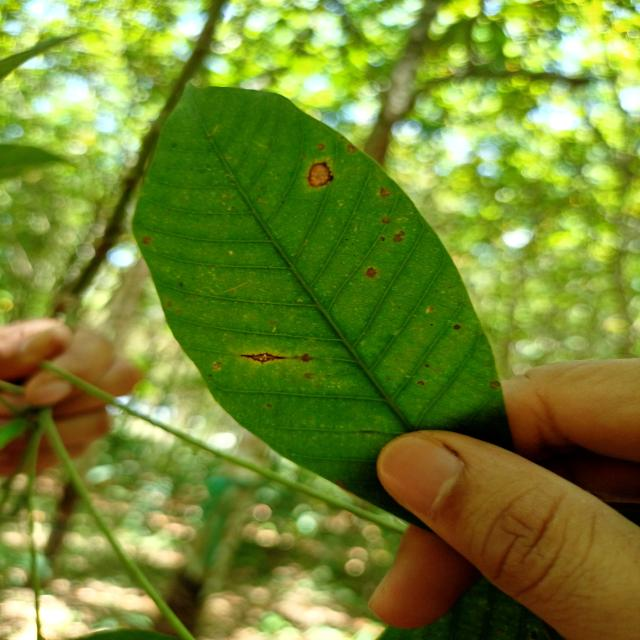Corynespora: (240, 352, 286, 364)
